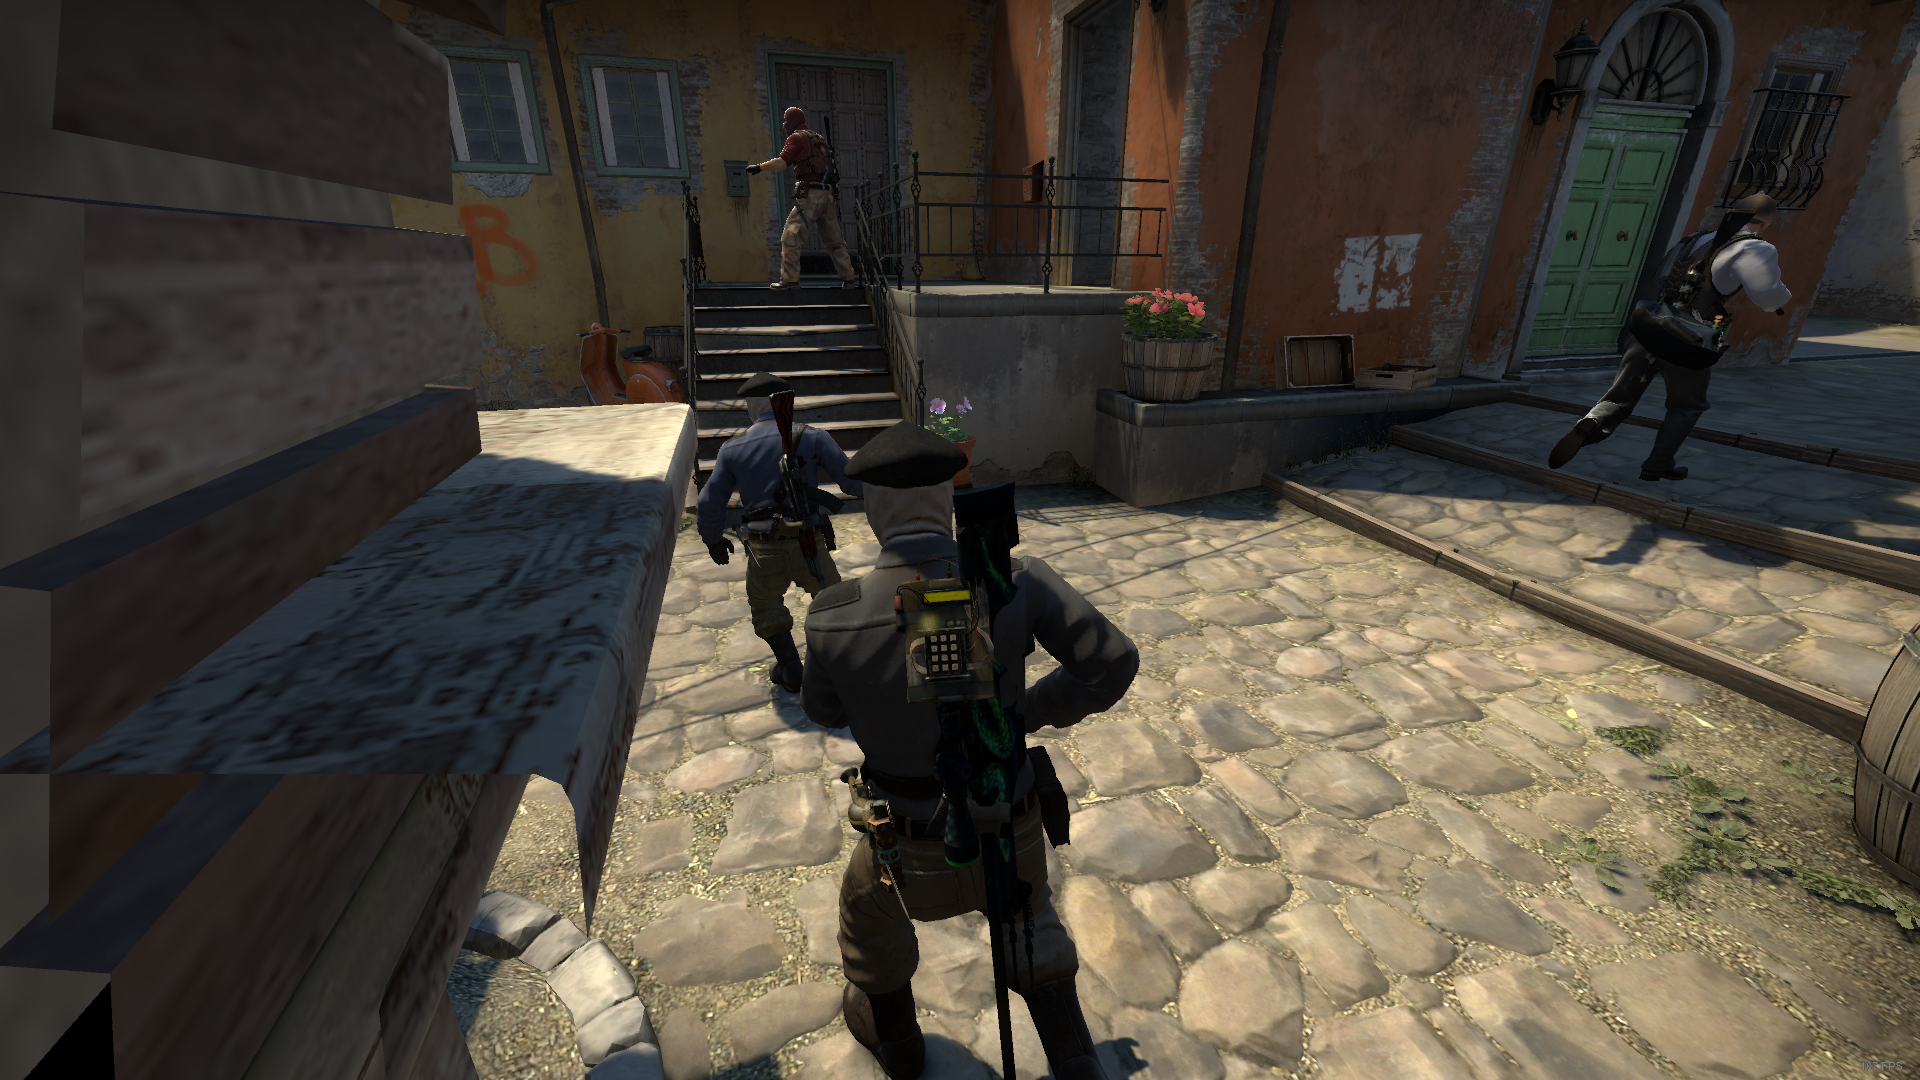t: (800, 429, 1142, 1080), (698, 372, 865, 700)
